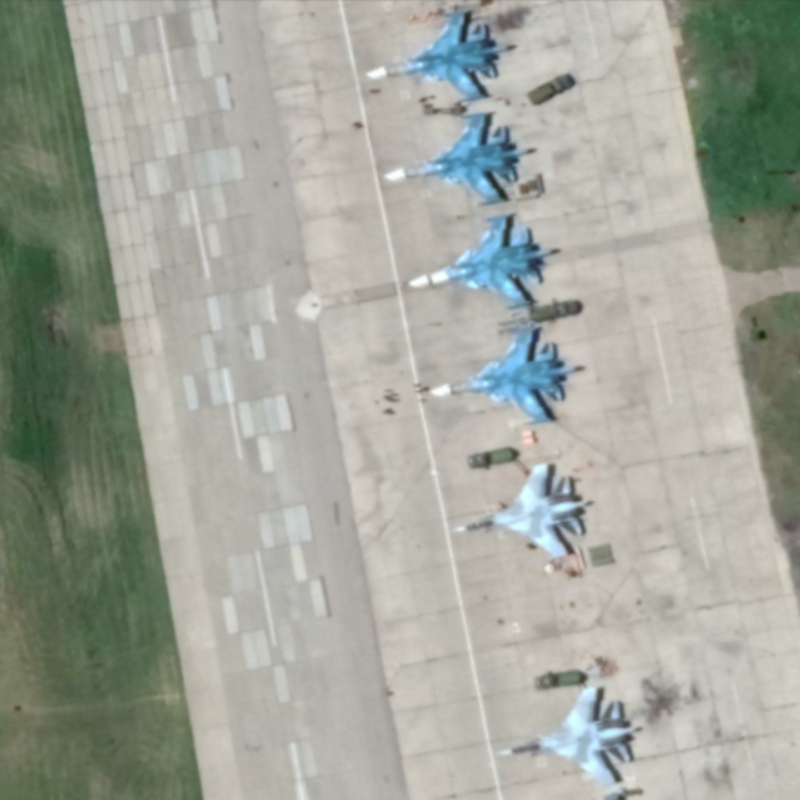A1: (497, 684, 637, 788), (451, 461, 588, 563)
A19: (424, 324, 578, 428), (405, 210, 554, 312), (382, 109, 531, 209), (363, 8, 511, 107)
